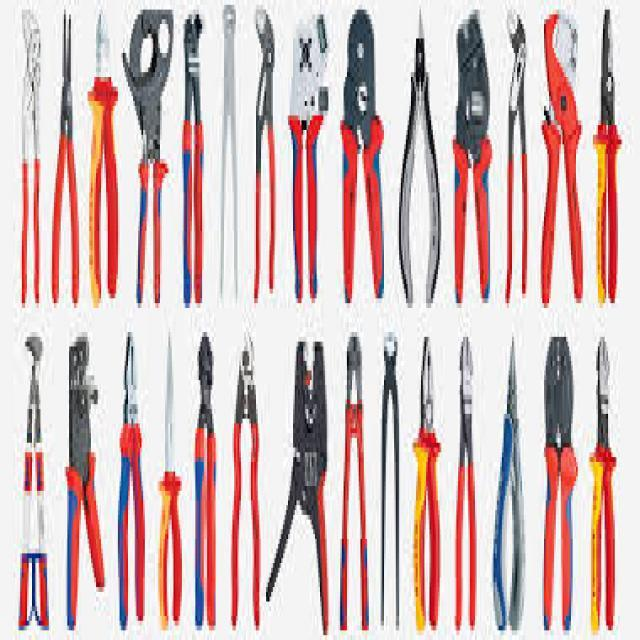pliers: (274, 326, 334, 640), (536, 307, 582, 640), (398, 0, 445, 318), (584, 0, 625, 318), (12, 320, 52, 636), (87, 0, 125, 326), (62, 339, 104, 631), (408, 321, 446, 640), (491, 323, 528, 640), (46, 8, 82, 329), (586, 315, 620, 640), (229, 327, 263, 640), (448, 327, 482, 640), (338, 321, 371, 640), (177, 0, 210, 310), (115, 321, 146, 640), (250, 0, 280, 313), (502, 0, 532, 313), (191, 321, 220, 640), (12, 0, 42, 303), (374, 313, 402, 636), (213, 0, 241, 315), (156, 327, 184, 640)
